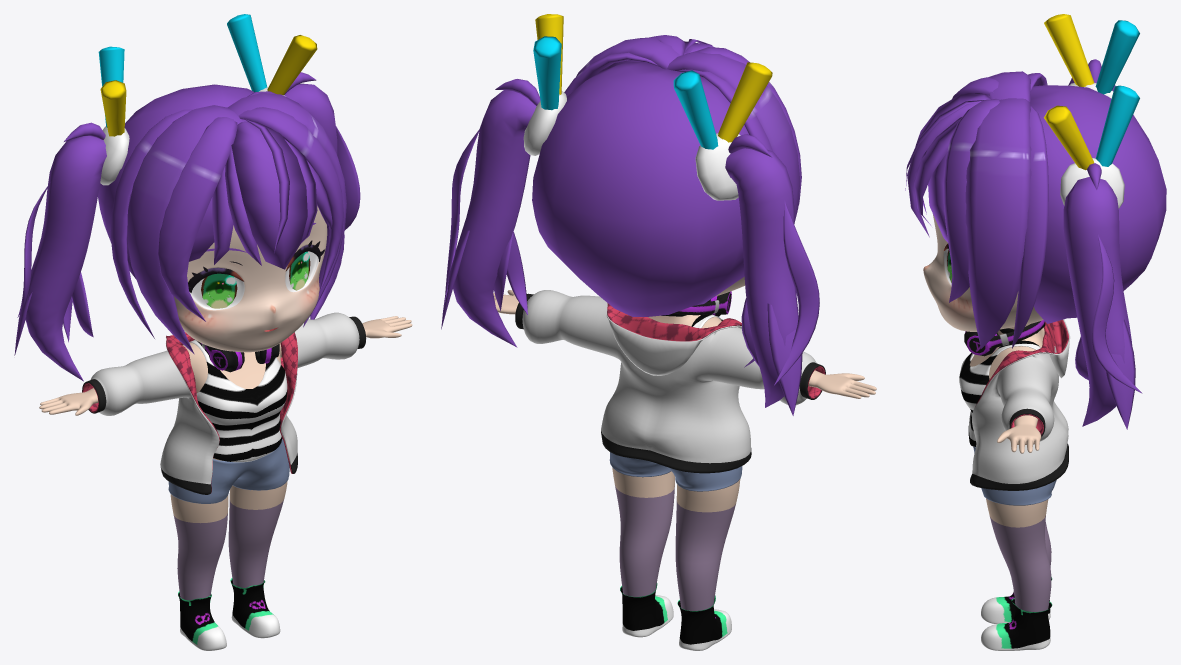
File: animyuko_mini.glb
3 renders of one model, left to right at view 1: azimuth 30°, elevation 25°; view 2: azimuth 150°, elevation 25°; view 3: azimuth 270°, elevation 25°, orthographic. The views are drawn at different scales.
Visible parts, largest first — view 1: hair.side.003, hair.tale.004, hair.front.005, body, jacket, body.head, cloth.tops, penlight, hair.back, shoes, pant, jacket.ura (+5 smaller); view 2: hair.back, hair.tale.004, jacket, body, hair.side.003, penlight, shoes, penlight.stand, pant, jacket.ura, headphone; view 3: hair.side.003, hair.back, hair.tale.004, jacket, body, penlight, hair.front.005, shoes, body.head, cloth.tops, jacket.ura, penlight.stand (+2 smaller).
Boxes of the visible parts, left/top/right/bottom form: hair.side.003: left=110, top=91, right=346, bottom=354; hair.tale.004: left=14, top=72, right=360, bottom=381; hair.front.005: left=189, top=119, right=332, bottom=269; body: left=39, top=316, right=412, bottom=600; jacket: left=82, top=312, right=366, bottom=494; body.head: left=174, top=206, right=327, bottom=352; cloth.tops: left=189, top=339, right=287, bottom=462; penlight: left=98, top=14, right=317, bottom=136; hair.back: left=98, top=84, right=254, bottom=279; shoes: left=178, top=578, right=280, bottom=650; pant: left=168, top=439, right=289, bottom=503; jacket.ura: left=82, top=332, right=297, bottom=492; hair.back: left=532, top=61, right=748, bottom=316; hair.tale.004: left=441, top=79, right=819, bottom=415; jacket: left=515, top=290, right=825, bottom=473; body: left=493, top=290, right=876, bottom=610; hair.side.003: left=564, top=35, right=801, bottom=223; penlight: left=533, top=14, right=772, bottom=149; shoes: left=620, top=583, right=731, bottom=650; penlight.stand: left=523, top=91, right=740, bottom=200; pant: left=609, top=452, right=742, bottom=491; jacket.ura: left=607, top=303, right=825, bottom=398; headphone: left=674, top=291, right=731, bottom=316; hair.side.003: left=943, top=71, right=1048, bottom=348; hair.back: left=1030, top=85, right=1166, bottom=323; hair.tale.004: left=1063, top=59, right=1142, bottom=429; jacket: left=970, top=319, right=1070, bottom=490; body: left=970, top=324, right=1051, bottom=611; penlight: left=1044, top=14, right=1139, bottom=170; hair.front.005: left=905, top=94, right=990, bottom=242; shoes: left=981, top=577, right=1052, bottom=650; body.head: left=923, top=214, right=1043, bottom=331; cloth.tops: left=959, top=327, right=1043, bottom=446; jacket.ura: left=975, top=319, right=1068, bottom=435; penlight.stand: left=1060, top=83, right=1124, bottom=208.
Bounding box in the file's own units: 0.2946 × 0.4284 × 0.1759.
21 materials, 15 textured.
